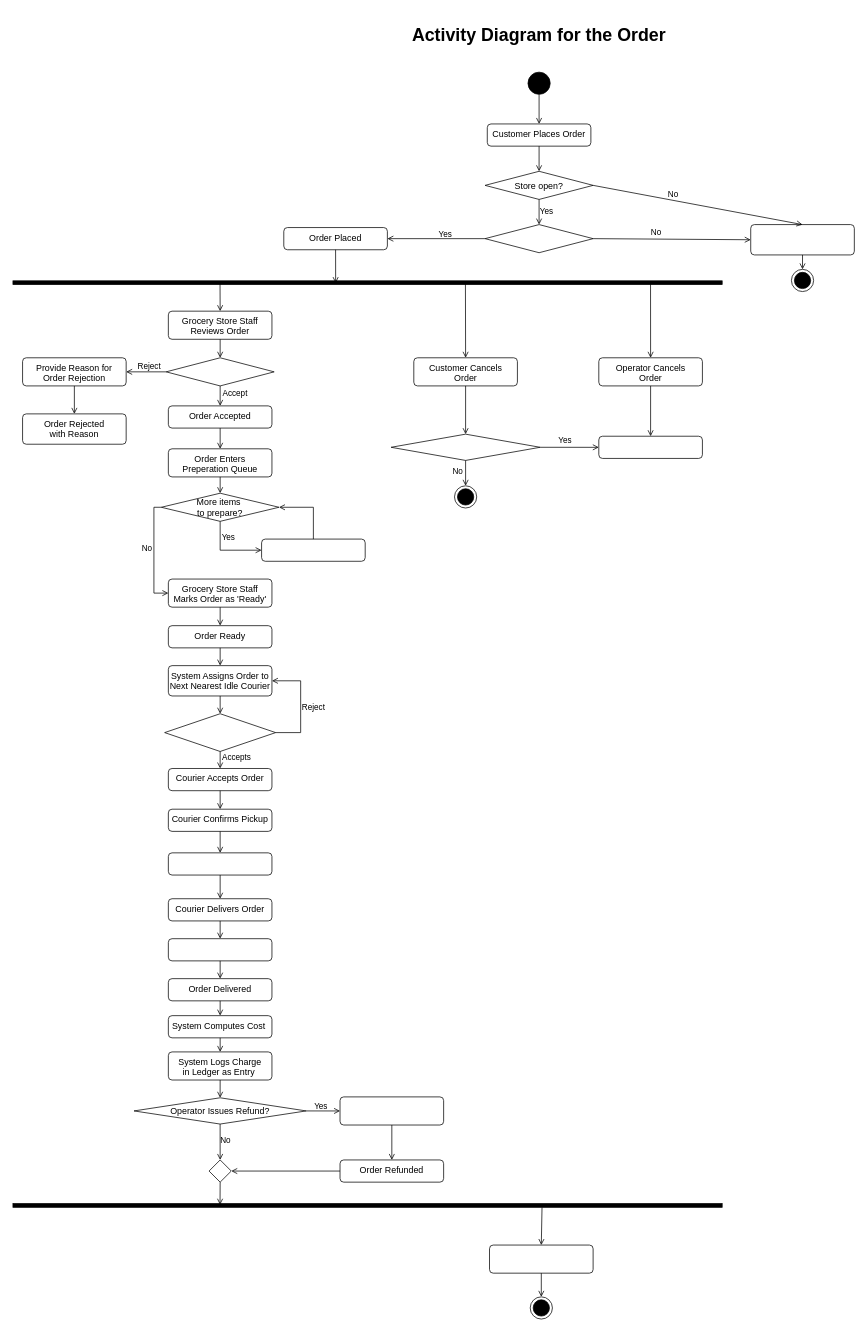
Some shapes in this 867 by 1332 pixel diagram are drawn without their labels. The shapes that lost their labels are listed below. From the top down, each one's centre as x and y in pixels, then its label:
At point 538,238: "Items Available?".
At point 802,239: "Order Refused with Message".
At point 219,371: "Accept or Reject?".
At point 465,446: "Order Status = Placed?".
At point 650,446: "Order Cancelled".
At point 313,549: "Preparing Order".
At point 220,732: "Courrier Accepts or Rejects?".
At point 220,863: "Order Picked Up".
At point 220,949: "Courier Confirms Delivery".
At point 391,1110: "Record Separate Refund Ledger Entry".
At point 541,1258: "Order Logged in Order History".
